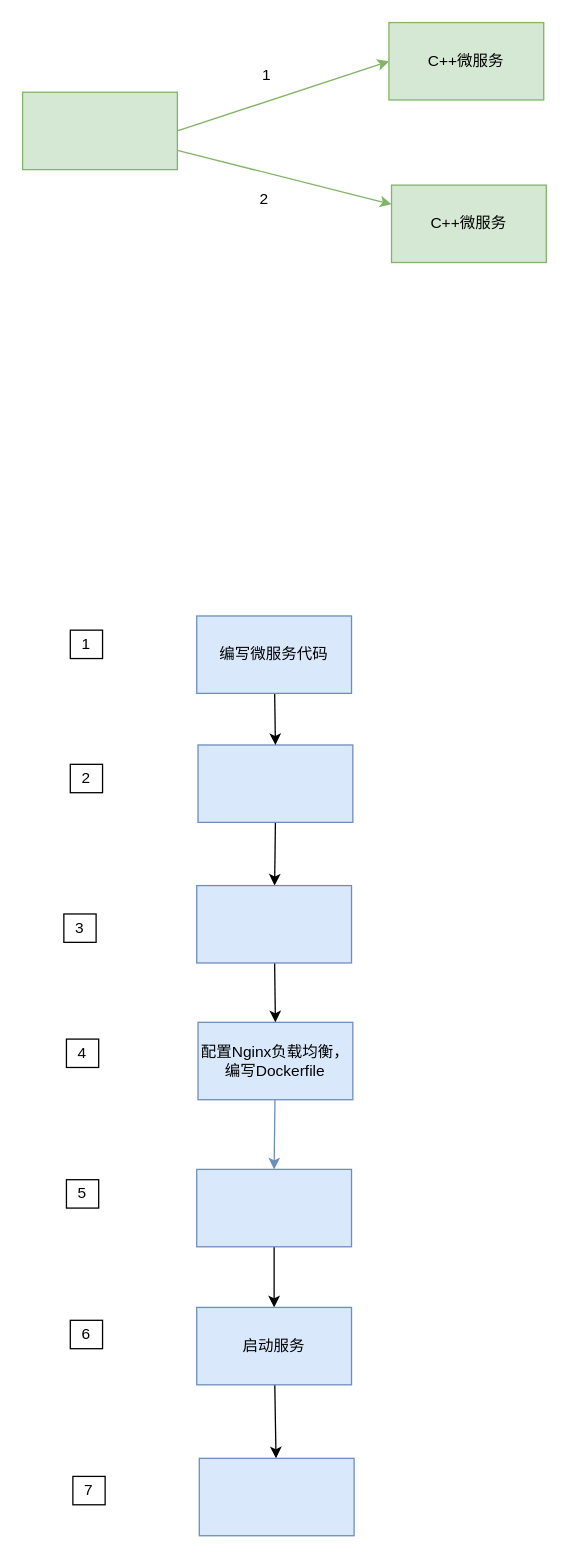
This 569x1558 diagram has some shape labels left out. The shapes that lost their labels are listed below. From the top down, each one's box as (x1, y1, x2, y2) in pixels, then its label:
(21, 91, 177, 170): Nginx
(197, 744, 353, 822): 测试代码
(195, 884, 352, 963): 编写微服务Dockerfile
(195, 1168, 352, 1247): 编写docker-compose.yml&构建镜像
(198, 1457, 354, 1536): 测试功能
